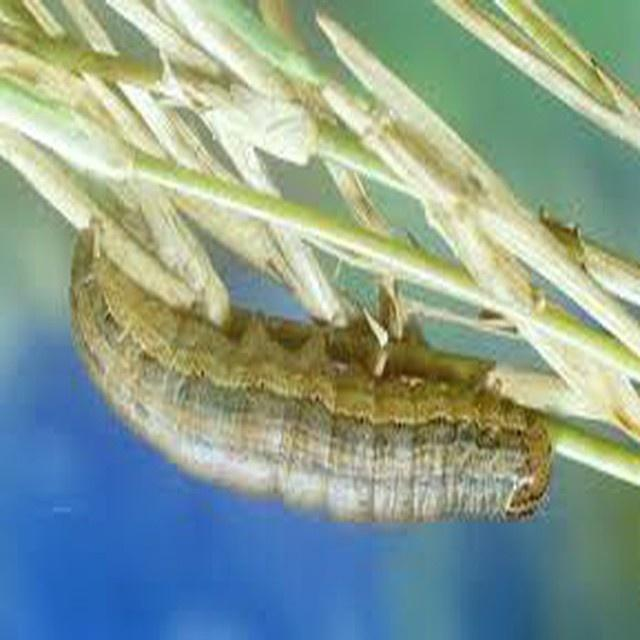gusano_cogollero: (75, 223, 552, 515)
